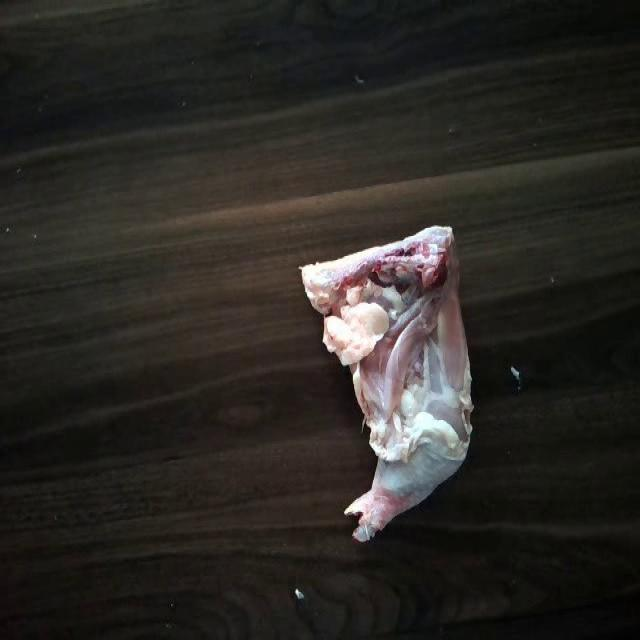quater: (288, 232, 510, 538)
